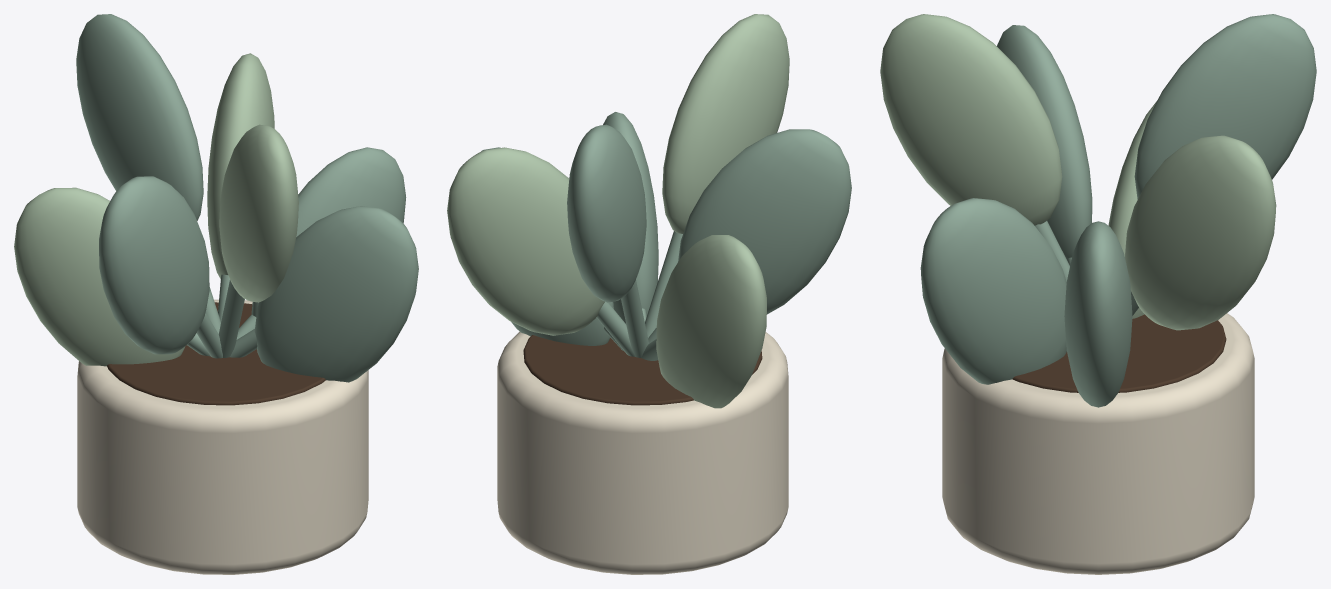
File: smallplant.glb
3 views of the same model, side by side, from view 1: azimuth 30°, elevation 25°; view 2: azimuth 150°, elevation 25°; view 3: azimuth 270°, elevation 25° (orthographic). The views are drawn at different scales.
Parts seen in each view (by area): view 1: smallplant Pot, smallplant Leaf.006, smallplant Leaf.002, smallplant Leaf.004, smallplant Leaf.003, smallplant Leaf.005, smallplant Soil, smallplant Leaf, smallplant Leaf.001, smallplant Stem.005, smallplant Stem.004; view 2: smallplant Pot, smallplant Leaf.001, smallplant Leaf.004, smallplant Leaf.005, smallplant Leaf.003, smallplant Leaf.002, smallplant Soil, smallplant Leaf.006, smallplant Stem.002, smallplant Stem.005, smallplant Leaf, smallplant Stem.001; view 3: smallplant Pot, smallplant Leaf.005, smallplant Leaf.001, smallplant Leaf.006, smallplant Leaf.002, smallplant Leaf, smallplant Leaf.004, smallplant Soil, smallplant Leaf.003, smallplant Stem.005.
Boxes of the visible parts, <box> form: smallplant Pot: <box>77,299,368,574</box>; smallplant Leaf.006: <box>254,206,418,382</box>; smallplant Leaf.002: <box>76,14,203,220</box>; smallplant Leaf.004: <box>99,176,209,354</box>; smallplant Leaf.003: <box>14,187,185,366</box>; smallplant Leaf.005: <box>219,124,298,302</box>; smallplant Soil: <box>107,302,325,405</box>; smallplant Leaf: <box>251,147,406,316</box>; smallplant Leaf.001: <box>207,53,274,278</box>; smallplant Stem.005: <box>219,280,244,357</box>; smallplant Stem.004: <box>196,313,222,358</box>; smallplant Pot: <box>497,331,788,574</box>; smallplant Leaf.001: <box>447,147,604,335</box>; smallplant Leaf.004: <box>678,129,851,314</box>; smallplant Leaf.005: <box>662,14,789,233</box>; smallplant Leaf.003: <box>656,235,766,408</box>; smallplant Leaf.002: <box>567,124,646,302</box>; smallplant Soil: <box>523,335,762,405</box>; smallplant Leaf.006: <box>603,112,658,323</box>; smallplant Stem.002: <box>621,280,649,357</box>; smallplant Stem.005: <box>645,231,682,338</box>; smallplant Leaf: <box>481,147,613,345</box>; smallplant Stem.001: <box>596,302,634,356</box>; smallplant Pot: <box>942,313,1254,574</box>; smallplant Leaf.005: <box>880,14,1062,225</box>; smallplant Leaf.001: <box>1125,135,1276,330</box>; smallplant Leaf.006: <box>920,198,1066,384</box>; smallplant Leaf.002: <box>1134,14,1316,199</box>; smallplant Leaf: <box>1064,221,1132,407</box>; smallplant Leaf.004: <box>997,25,1092,259</box>; smallplant Soil: <box>1012,314,1226,392</box>; smallplant Leaf.003: <box>1108,100,1157,318</box>; smallplant Stem.005: <box>1035,221,1069,281</box>.
Size of the model in its own units: 0.1505 by 0.1883 by 0.1539.
